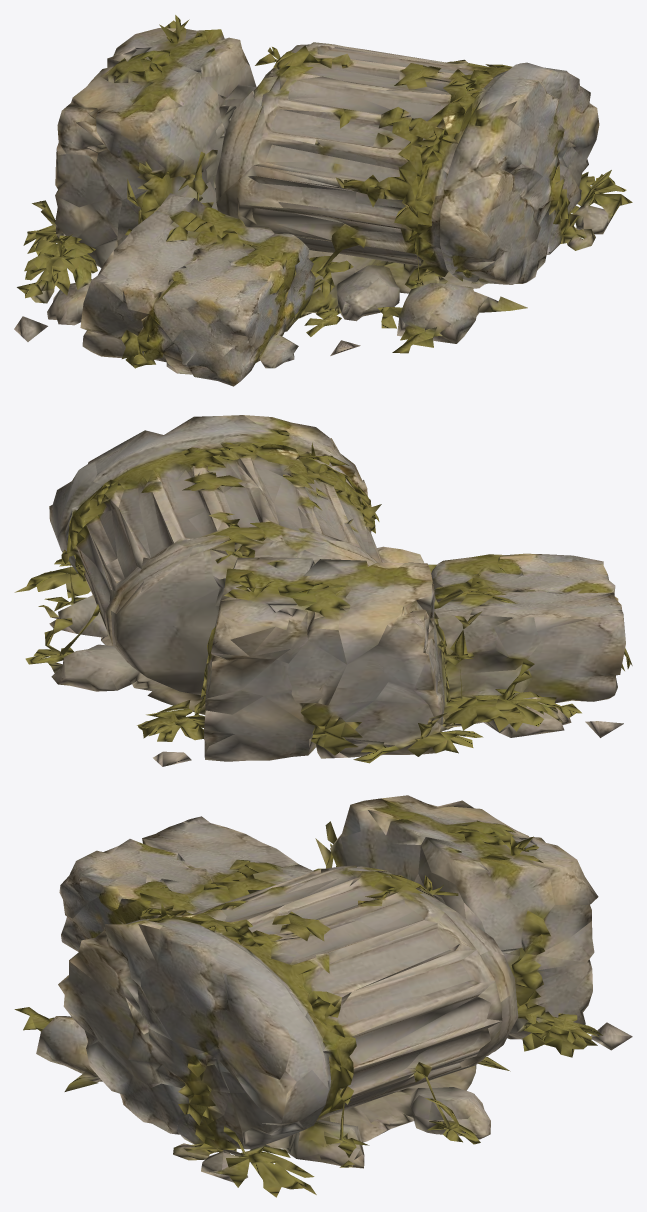
The model's file is rubble_b.glb.
3 views of the same model, one above another, from view 1: azimuth 30°, elevation 25°; view 2: azimuth 150°, elevation 25°; view 3: azimuth 270°, elevation 25° (orthographic). The views are drawn at different scales.
Visible parts, largest first — view 1: rubble_b__rubble; view 2: rubble_b__rubble; view 3: rubble_b__rubble.
Part boxes in pixels (x1,y1,x2,y2): rubble_b__rubble: [14, 15, 632, 386]; rubble_b__rubble: [14, 415, 632, 766]; rubble_b__rubble: [14, 795, 632, 1197].
Bounding box in the file's own units: 2.15 × 0.6 × 1.77.
Materials: 1 (1 with a texture image).
